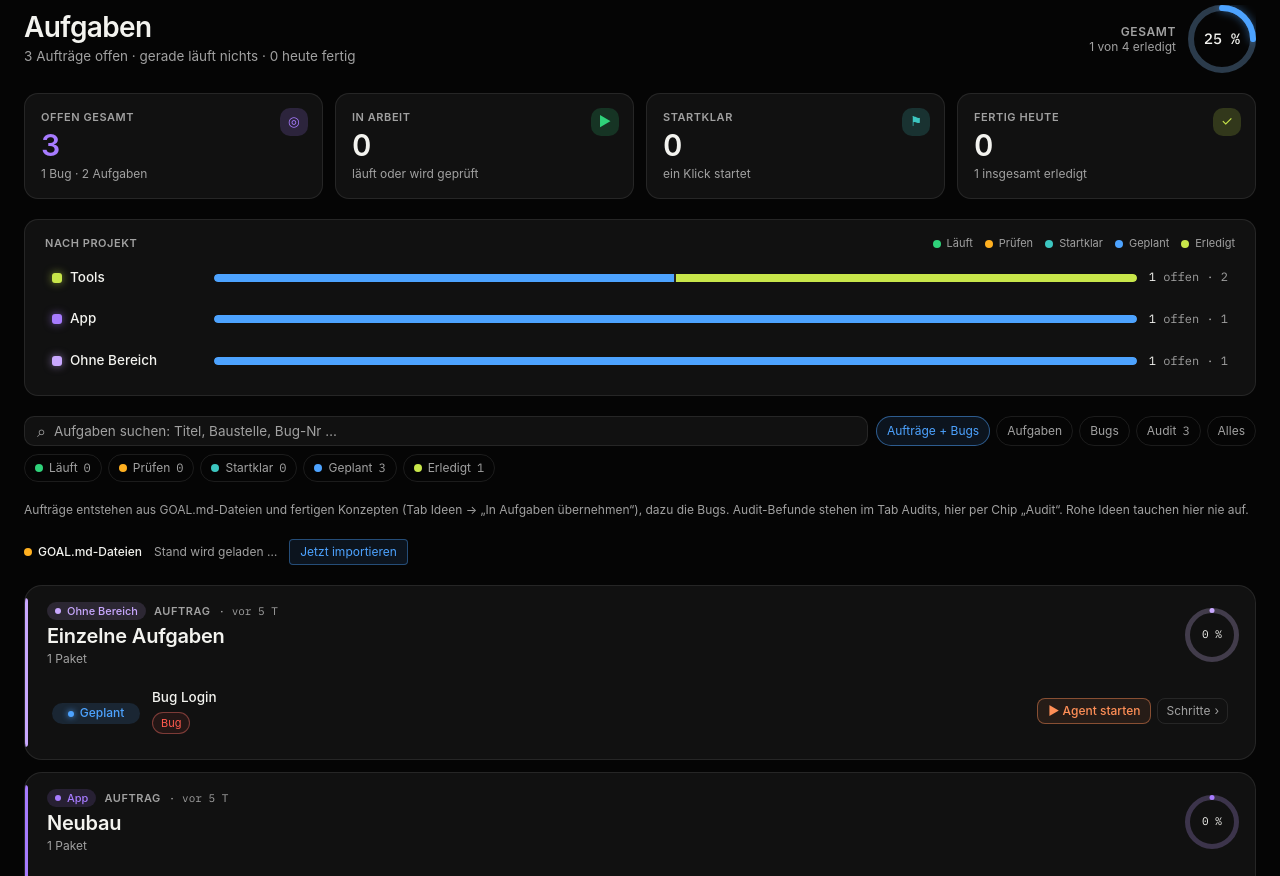
Scenario: Audit-Befunde zählen nicht doppelt › per Chip „Audit“ zuschaltbar
Click the button "Audit 3" at (1168, 432), box x1=1136 y1=416 x2=1201 y2=446
(page scrolled)
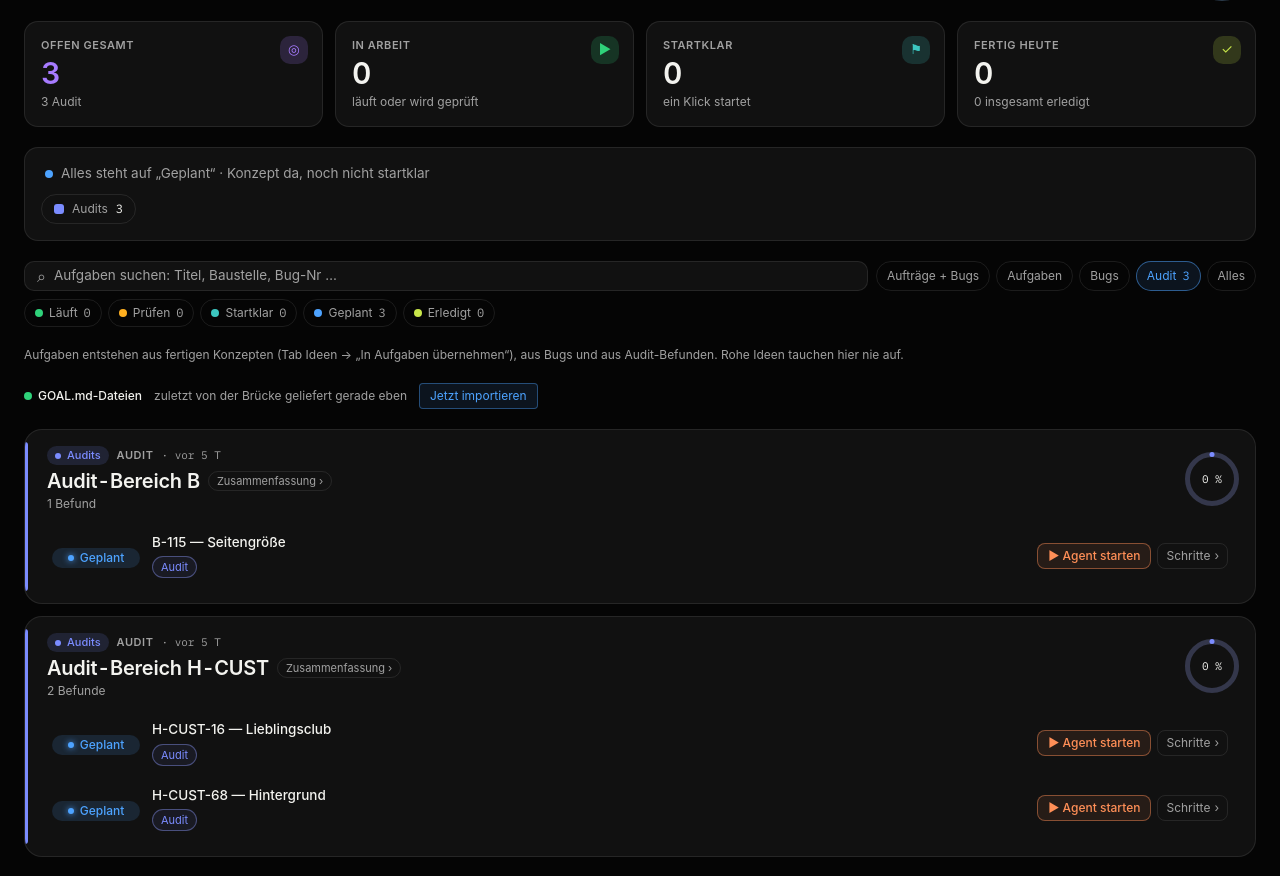
Expected: the element "Audit-Bereich H-CUST" is shown, x1=24 y1=616 x2=1256 y2=857
